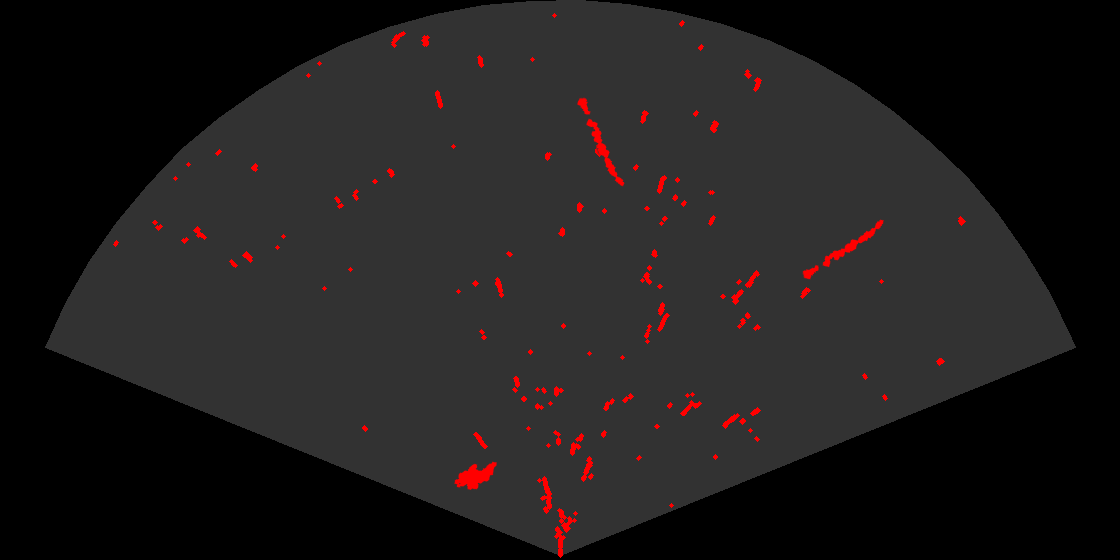AUV: (453, 460, 498, 492)
chain: (801, 218, 885, 281), (576, 95, 626, 188)
